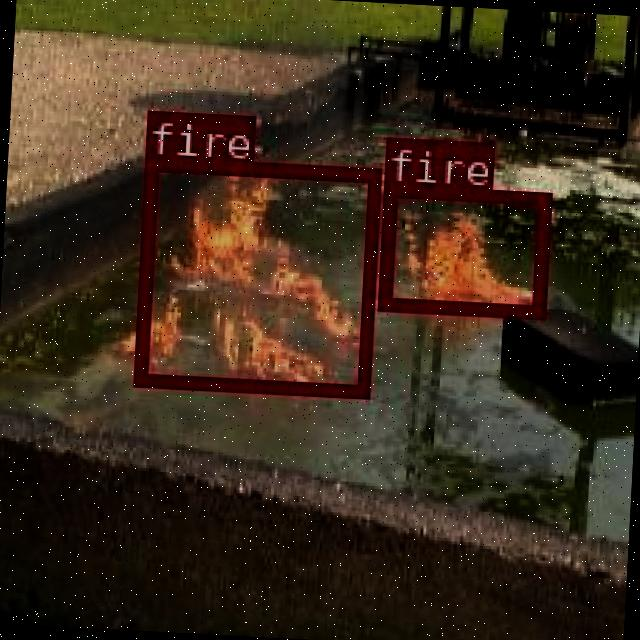fire: (132, 154, 378, 396), (376, 180, 548, 316)
